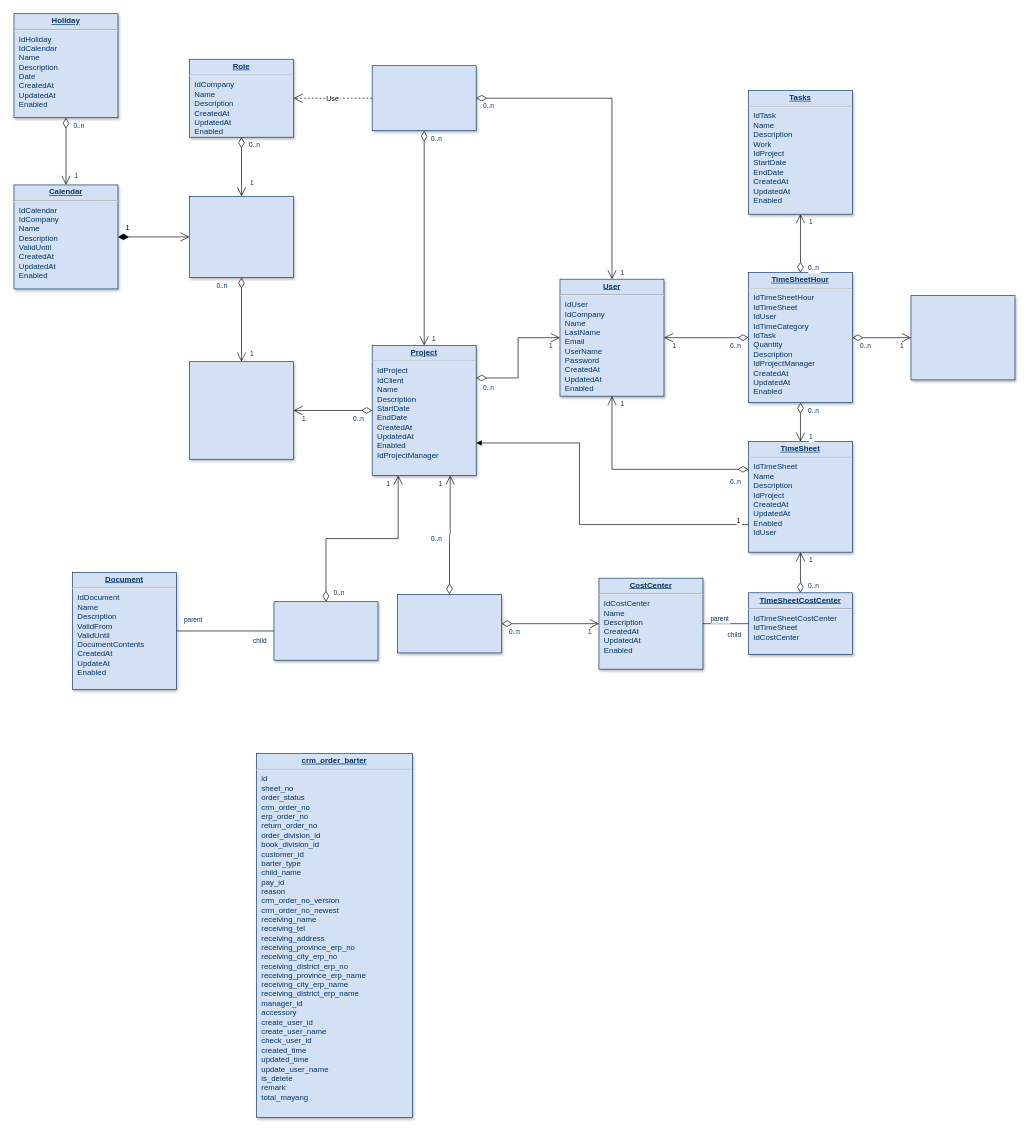
The diagram is 1030 pixels wide and 1134 high, and some of its shapes have lost their labels. The centre of each missing label's shape, as x and y in pixels:
Client IdClient IdCompany Name Description CreatedAt UpdatedAt Enabled: the point at 241,411
Company Name Description CreatedAt UpdatedAt Enabled: the point at 241,237
ProjectCostCenter IdProjectCostCenter IdProject IdCostCenter: the point at 449,624
ProjectDocument IdProjectDocument IdProject IdDocument: the point at 326,631
TimeCategory IdTimeCategory Name Description CreatedAt UpdatedAt Enabled: the point at 963,338
UserProjectRole IdUserProjectRole IdRole IdProject IdUser: the point at 424,98
